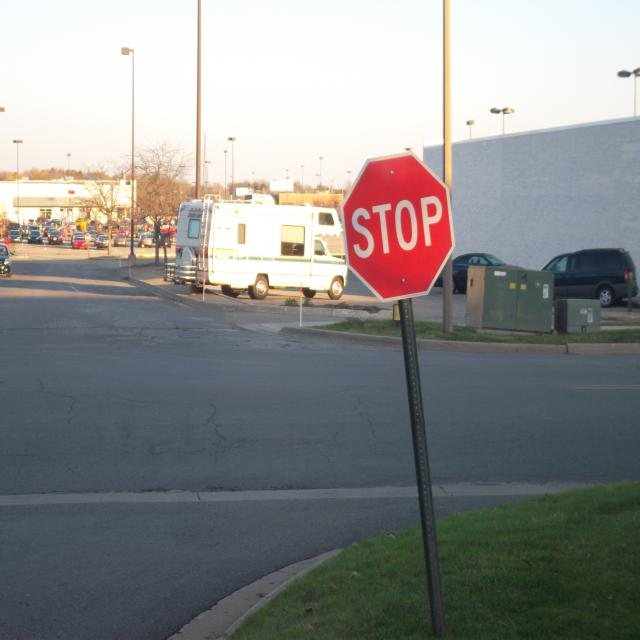stop: (338, 151, 458, 303)
